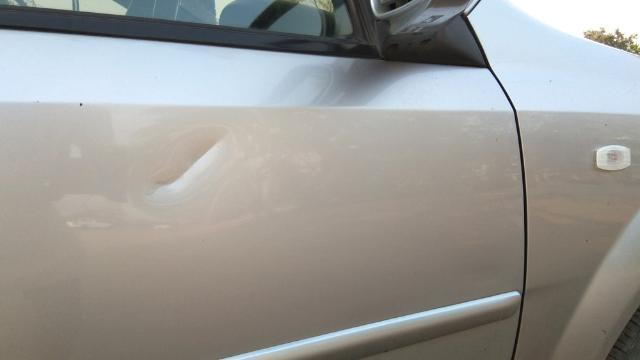dent: (145, 130, 232, 203)
